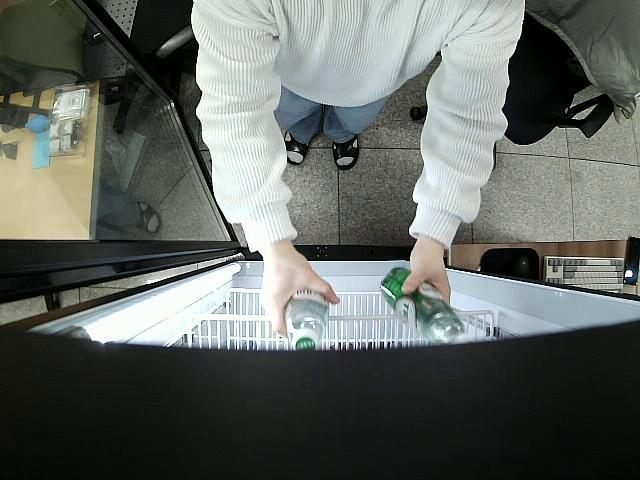18_trevi: (378, 266, 468, 347), (284, 288, 330, 352)
